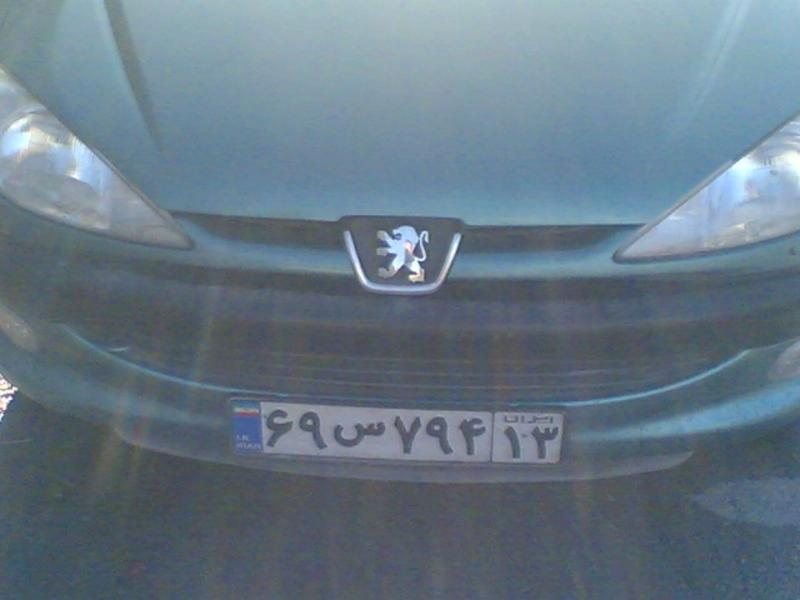Plate: (231, 391, 575, 471)
